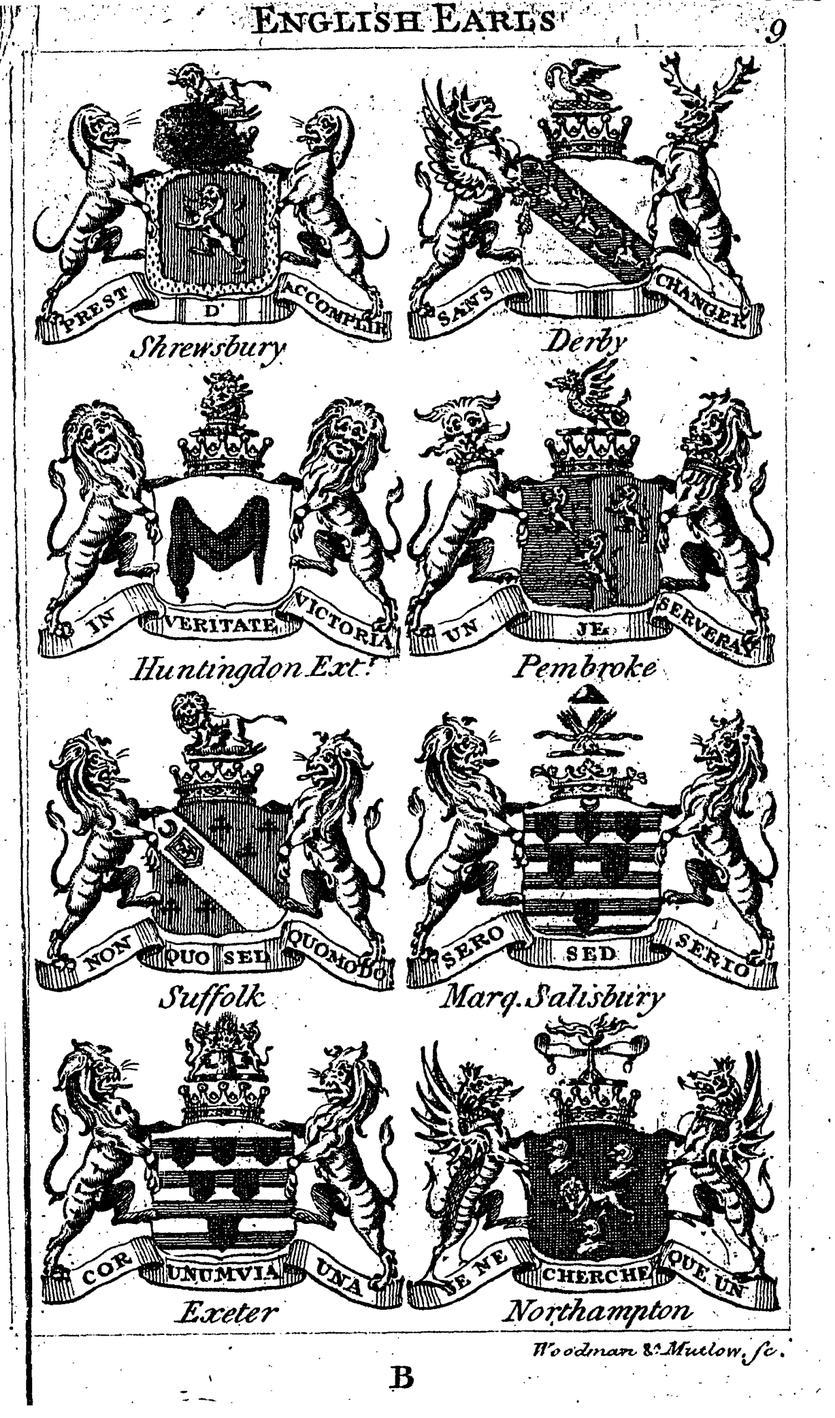coat_of_arms: (395, 679, 788, 1014), (398, 368, 788, 685), (399, 1008, 788, 1325), (397, 46, 766, 365), (42, 685, 406, 1005), (43, 369, 396, 688), (40, 1009, 405, 1315), (43, 60, 396, 370)
